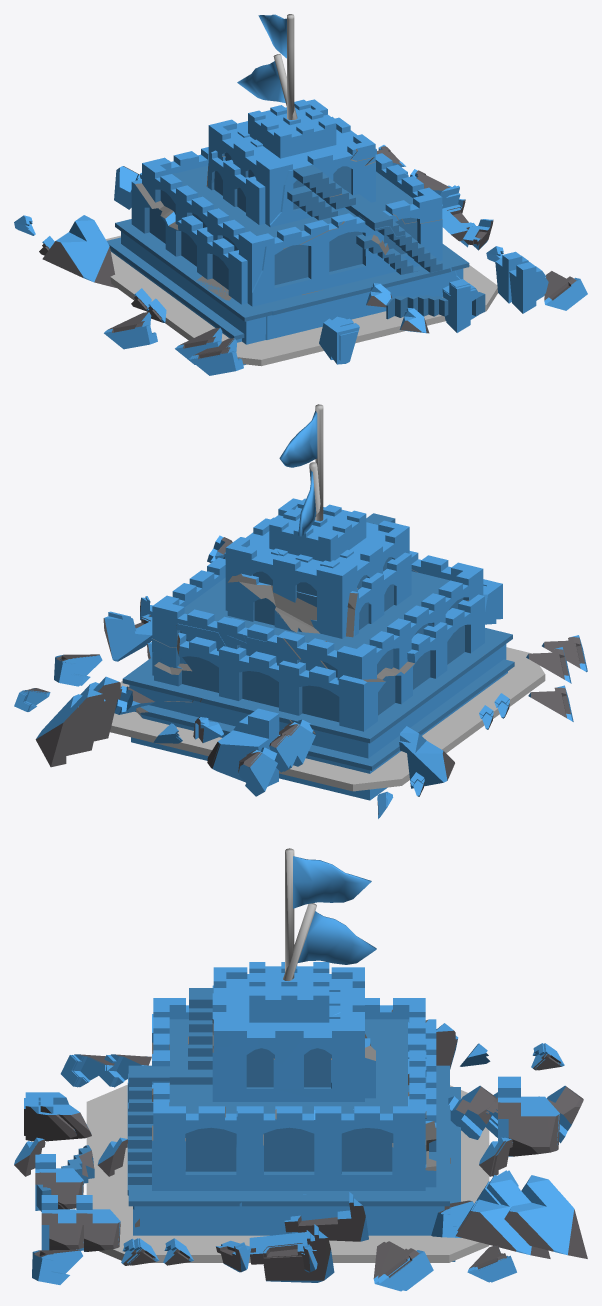
Rendered from destroyedcastlelevel1blue.fbx.
The picture shows the model from 3 angles, top to bottom: view 1: azimuth 30°, elevation 25°; view 2: azimuth 150°, elevation 25°; view 3: azimuth 270°, elevation 25°; orthographic projection. The views are drawn at different scales.
Visible parts, largest first — view 1: castlelevel1blue, castlelevel1blue50destroyed, castlelevel1blue25destyoed, castlelevel1blue.001_cell.139, bluebasecastelevel175destoreyed, bluebasecastelevel1100destoreyed, bluebasecastelevel125destoreyed, castlelevel1blue.001_cell.092, castlelevel1blue100destroyed.001, castlelevel1blue75destroyed, castlelevel1blue.001_cell.069, castlelevel1blue.001_cell.137 (+9 smaller); view 2: castlelevel1blue, castlelevel1blue25destyoed, bluebasecastelevel175destoreyed, castlelevel1blue75destroyed, bluebasecastelevel1100destoreyed, castlelevel1blue.001_cell.123, castlelevel1blue.001_cell.140, castlelevel1blue.001_cell.139, castlelevel1blue.001_cell.073, castlelevel1blue.001_cell.077, bluebasecastelevel125destoreyed, castlelevel1blue.001_cell.072 (+8 smaller); view 3: castlelevel1blue, castlelevel1blue75destroyed, castlelevel1blue50destroyed, bluebasecastelevel175destoreyed, castlelevel1blue25destyoed, bluebasecastelevel125destoreyed, castlelevel1blue.001_cell.123, castlelevel1blue.001_cell.140, castlelevel1blue.001_cell.072, castlelevel1blue.001_cell.073, bluebasecastelevel1100destoreyed, castlelevel1blue.001_cell.124 (+20 smaller).
Part boxes in pixels (box(x1,y1,x2,y2)): castlelevel1blue: box(115, 14, 469, 344); castlelevel1blue50destroyed: box(155, 148, 460, 340); castlelevel1blue25destyoed: box(107, 54, 419, 365); castlelevel1blue.001_cell.139: box(42, 215, 116, 287); bluebasecastelevel175destoreyed: box(107, 237, 488, 351); bluebasecastelevel1100destoreyed: box(106, 236, 497, 366); bluebasecastelevel125destoreyed: box(106, 235, 497, 340); castlelevel1blue.001_cell.092: box(509, 262, 548, 313); castlelevel1blue100destroyed.001: box(386, 292, 485, 319); castlelevel1blue75destroyed: box(129, 179, 456, 307); castlelevel1blue.001_cell.069: box(104, 312, 157, 349); castlelevel1blue.001_cell.137: box(544, 271, 587, 310); castlelevel1blue: box(122, 404, 512, 758); castlelevel1blue25destyoed: box(131, 462, 514, 800); bluebasecastelevel175destoreyed: box(110, 647, 544, 791); castlelevel1blue75destroyed: box(145, 569, 494, 733); bluebasecastelevel1100destoreyed: box(114, 667, 544, 784); castlelevel1blue.001_cell.123: box(35, 689, 105, 767); castlelevel1blue.001_cell.140: box(207, 708, 279, 786); castlelevel1blue.001_cell.139: box(399, 726, 454, 788); castlelevel1blue.001_cell.073: box(103, 611, 152, 661); castlelevel1blue.001_cell.077: box(238, 747, 277, 796); bluebasecastelevel125destoreyed: box(310, 658, 545, 787); castlelevel1blue.001_cell.072: box(80, 676, 122, 741); castlelevel1blue: box(128, 848, 449, 1235); castlelevel1blue75destroyed: box(129, 1010, 450, 1235); castlelevel1blue50destroyed: box(127, 985, 409, 1235); bluebasecastelevel175destoreyed: box(86, 1085, 489, 1262); castlelevel1blue25destyoed: box(283, 903, 460, 1261); bluebasecastelevel125destoreyed: box(86, 1086, 489, 1262); castlelevel1blue.001_cell.123: box(504, 1175, 587, 1258); castlelevel1blue.001_cell.140: box(498, 1076, 560, 1156); castlelevel1blue.001_cell.072: box(455, 1175, 550, 1258); castlelevel1blue.001_cell.073: box(249, 1224, 334, 1282); bluebasecastelevel1100destoreyed: box(86, 1085, 488, 1262); castlelevel1blue.001_cell.124: box(284, 1192, 368, 1241).
Size of the model in its own units: 619 by 404 by 603.
